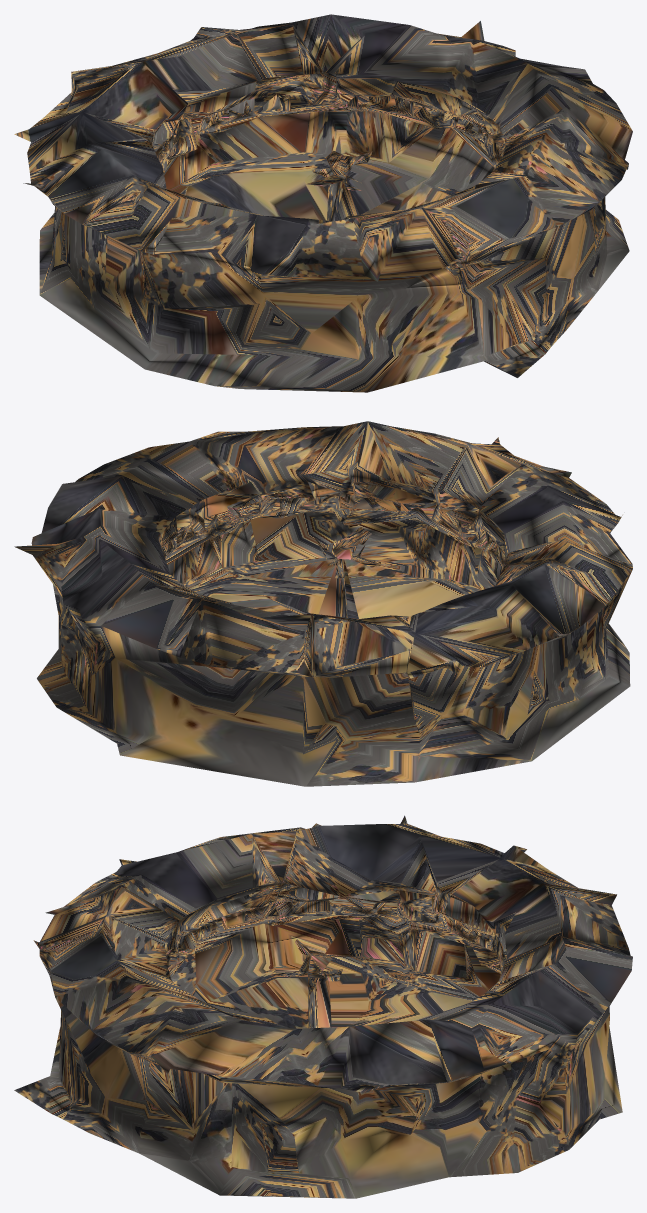
The model's file is h_round_far.glb.
The picture shows the model from 3 angles, top to bottom: view 1: azimuth 30°, elevation 25°; view 2: azimuth 150°, elevation 25°; view 3: azimuth 270°, elevation 25°; orthographic projection.
Parts seen in each view (by area): view 1: tripo_node_01bd3f30-4a4a-4af0-9e0a-a5949a5c21e0; view 2: tripo_node_01bd3f30-4a4a-4af0-9e0a-a5949a5c21e0; view 3: tripo_node_01bd3f30-4a4a-4af0-9e0a-a5949a5c21e0.
Part boxes in pixels (x1,y1,x2,y2): tripo_node_01bd3f30-4a4a-4af0-9e0a-a5949a5c21e0: (14,14,632,392); tripo_node_01bd3f30-4a4a-4af0-9e0a-a5949a5c21e0: (14,421,632,786); tripo_node_01bd3f30-4a4a-4af0-9e0a-a5949a5c21e0: (14,815,632,1198).
Size of the model in its own units: 0.9808 by 0.2705 by 0.9704.
Materials: 1 (1 with a texture image).
